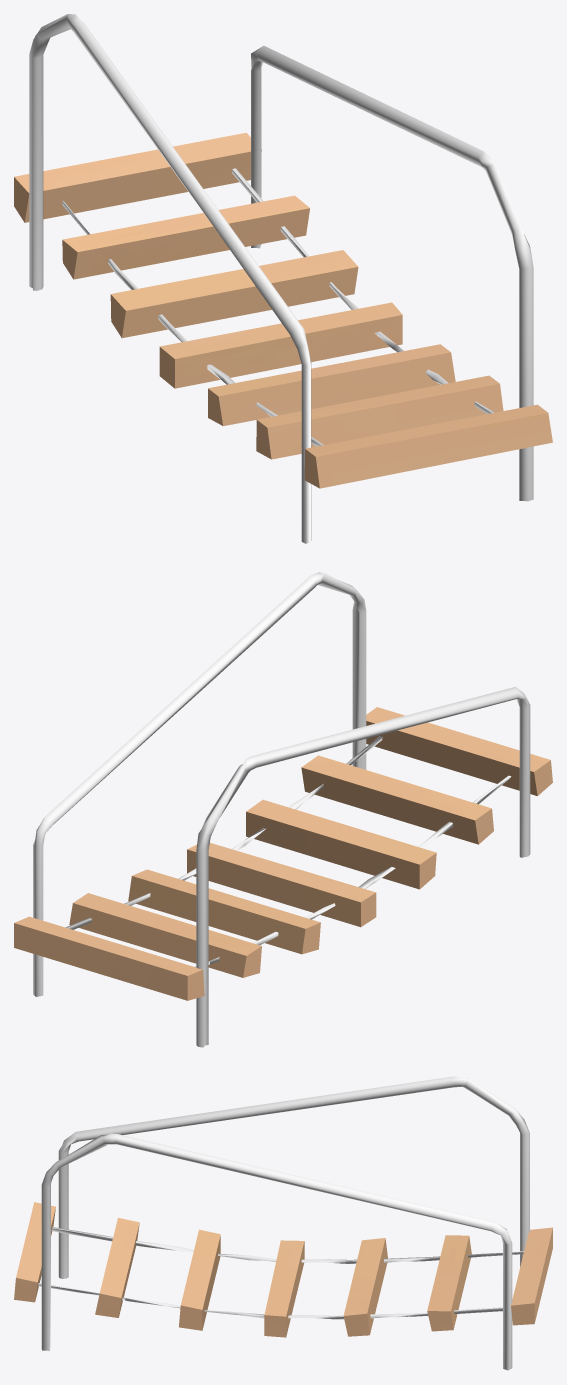
Rendered from турник7.glb.
The picture shows the model from 3 angles, top to bottom: view 1: azimuth 30°, elevation 25°; view 2: azimuth 150°, elevation 25°; view 3: azimuth 270°, elevation 25°; orthographic projection. The views are drawn at different scales.
Visible parts, largest first — view 1: Mesh_0.001; view 2: Mesh_0.001; view 3: Mesh_0.001.
Boxes of the visible parts, x1,y1,x2,y2 form: Mesh_0.001: (14, 14, 552, 543); Mesh_0.001: (14, 572, 552, 1047); Mesh_0.001: (14, 1076, 552, 1370).
Bounding box in the file's own units: 1.04 × 1.07 × 2.4.
1 material, 1 textured.
